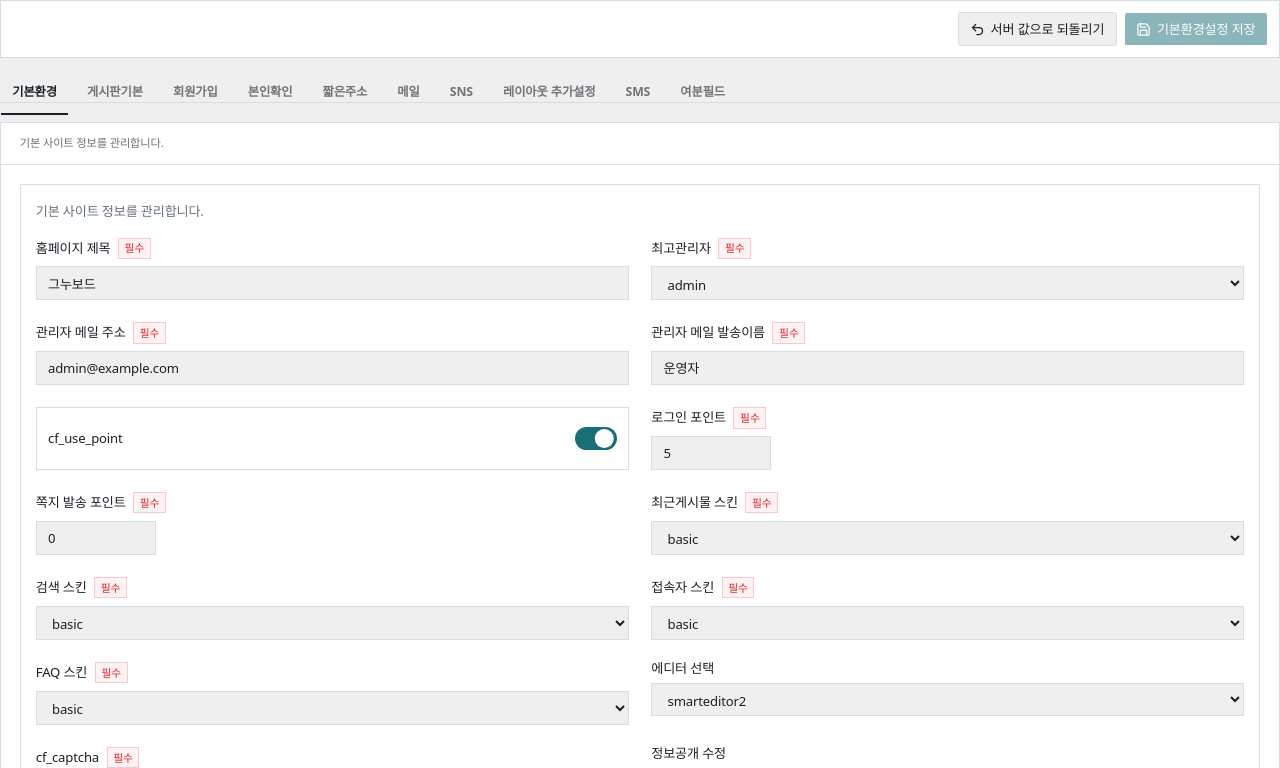
Scenario: AdminConfigPage legacy editability › renders certificate mode as a select instead of a boolean switch
The width and height of the screenshot is (1280, 768).
Click the tab "본인확인" at coordinates (270, 92), box [236, 73, 305, 111]
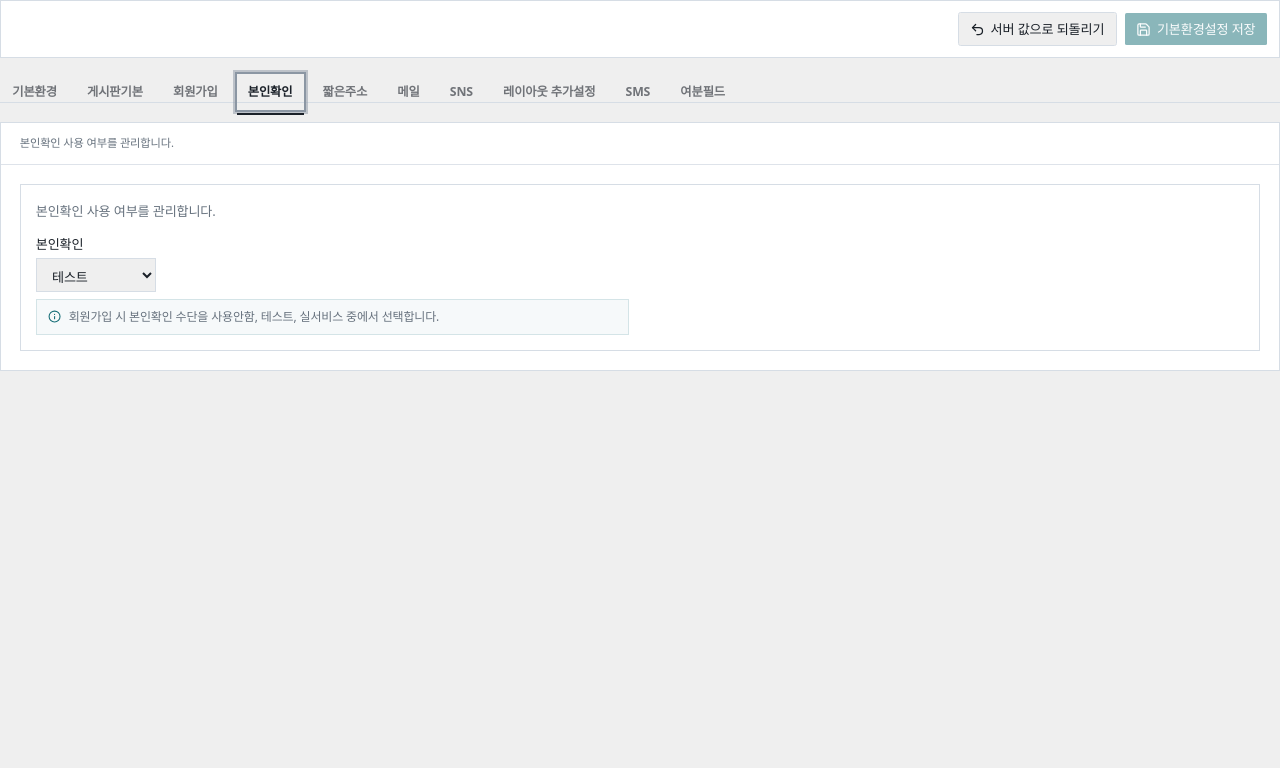
Expected: the dropdown shows "테스트", [36, 258, 156, 292]
